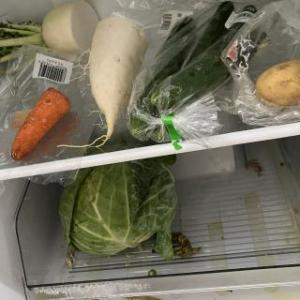cabbage: (57, 156, 195, 266)
carrot: (10, 86, 72, 162)
